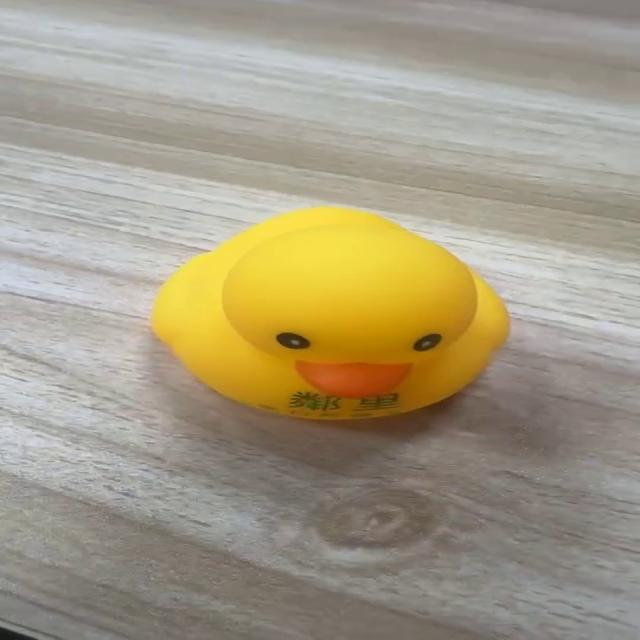yellow_duck: (148, 204, 512, 422)
